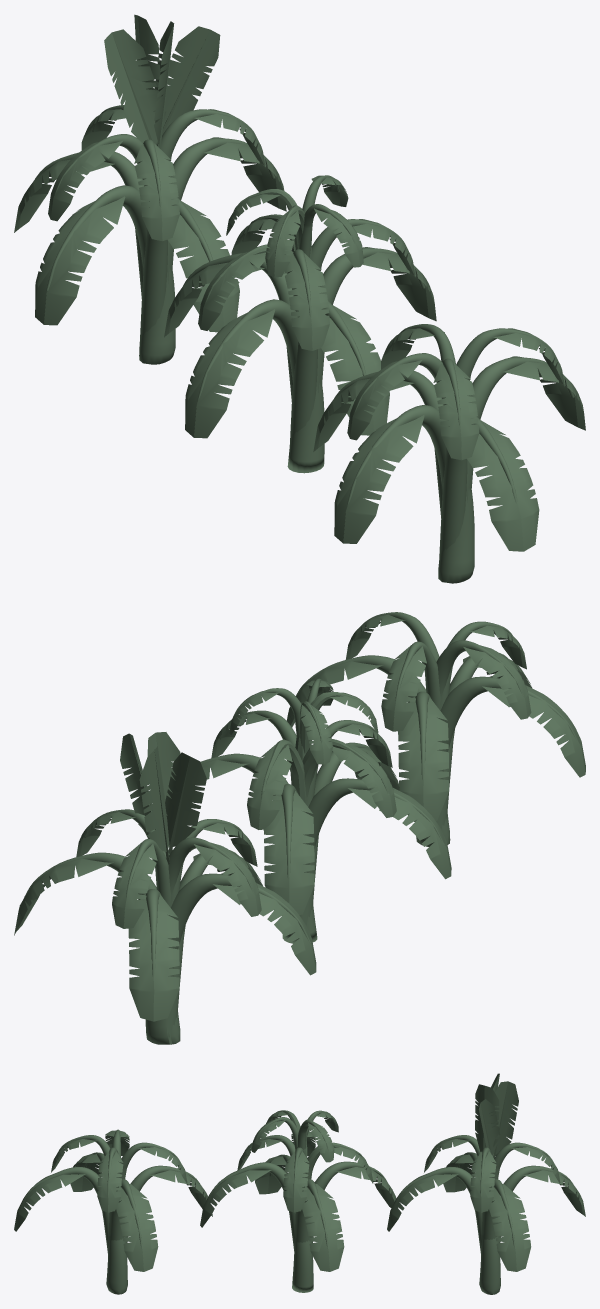
Rendered from banana-tree-pack.glb.
The picture shows the model from 3 angles, top to bottom: view 1: azimuth 30°, elevation 25°; view 2: azimuth 150°, elevation 25°; view 3: azimuth 270°, elevation 25°; orthographic projection. The views are drawn at different scales.
Parts seen in each view (by area): view 1: polySurface94, polySurface46, polySurface91; view 2: polySurface94, polySurface46, polySurface91; view 3: polySurface94, polySurface46, polySurface91.
Part boxes in pixels (<box>): polySurface94: <box>14,14,286,364</box>; polySurface46: <box>164,175,436,473</box>; polySurface91: <box>313,324,585,583</box>; polySurface94: <box>14,732,316,1044</box>; polySurface46: <box>200,678,451,943</box>; polySurface91: <box>286,612,585,846</box>; polySurface94: <box>387,1073,585,1294</box>; polySurface46: <box>200,1110,397,1292</box>; polySurface91: <box>14,1129,212,1294</box>.
Size of the model in its own units: 3.79 by 4.27 by 10.53.
